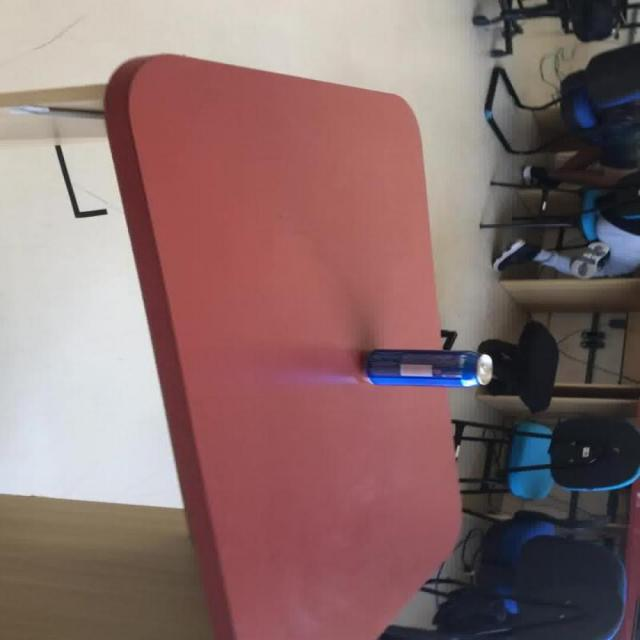Tonic: (364, 348, 493, 387)
